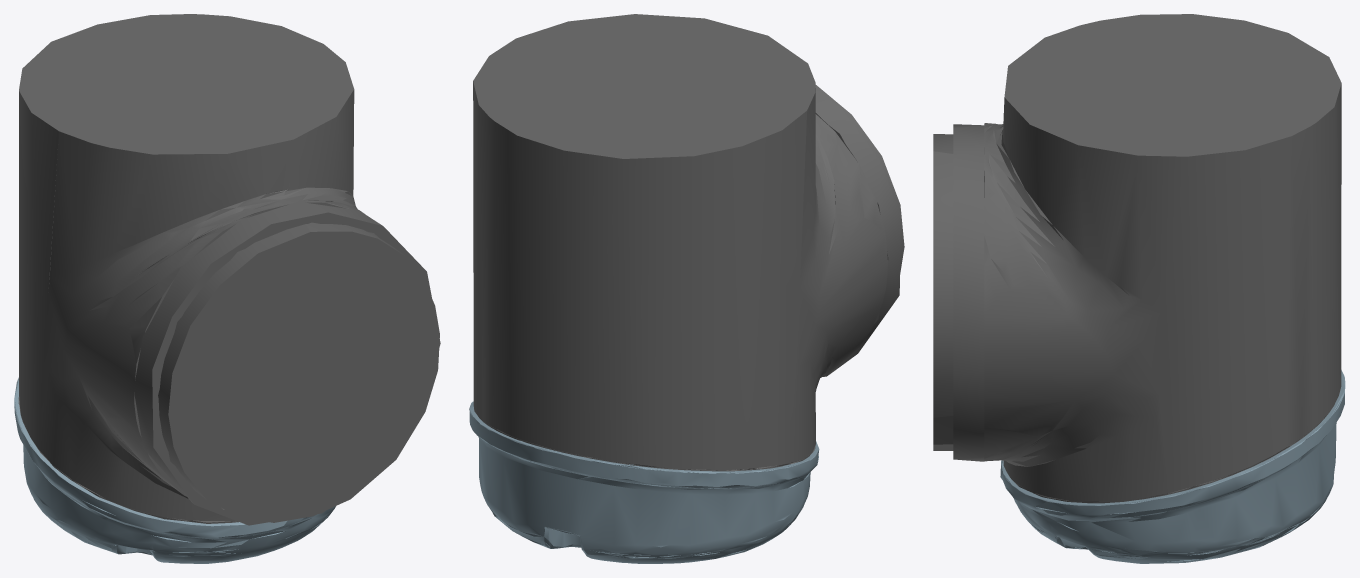
File: wrist1_ur3dae.dae
3 renders of one model, left to right at view 1: azimuth 30°, elevation 25°; view 2: azimuth 150°, elevation 25°; view 3: azimuth 270°, elevation 25°, orthographic. The views are drawn at different scales.
Parts seen in each view (by area): view 1: node0, node2, node1; view 2: node0, node2, node1; view 3: node0, node2, node1.
Boxes of the visible parts, x1,y1,x2,y2 form: node0: (18,14,439,523); node2: (14,377,335,563); node1: (133,201,440,525); node0: (473,14,904,471); node2: (469,401,819,563); node1: (815,91,900,376); node0: (933,14,1341,503); node2: (1000,370,1345,563); node1: (953,124,984,461).
Size of the model in its own units: 0.0645 by 0.0768 by 0.0888.
